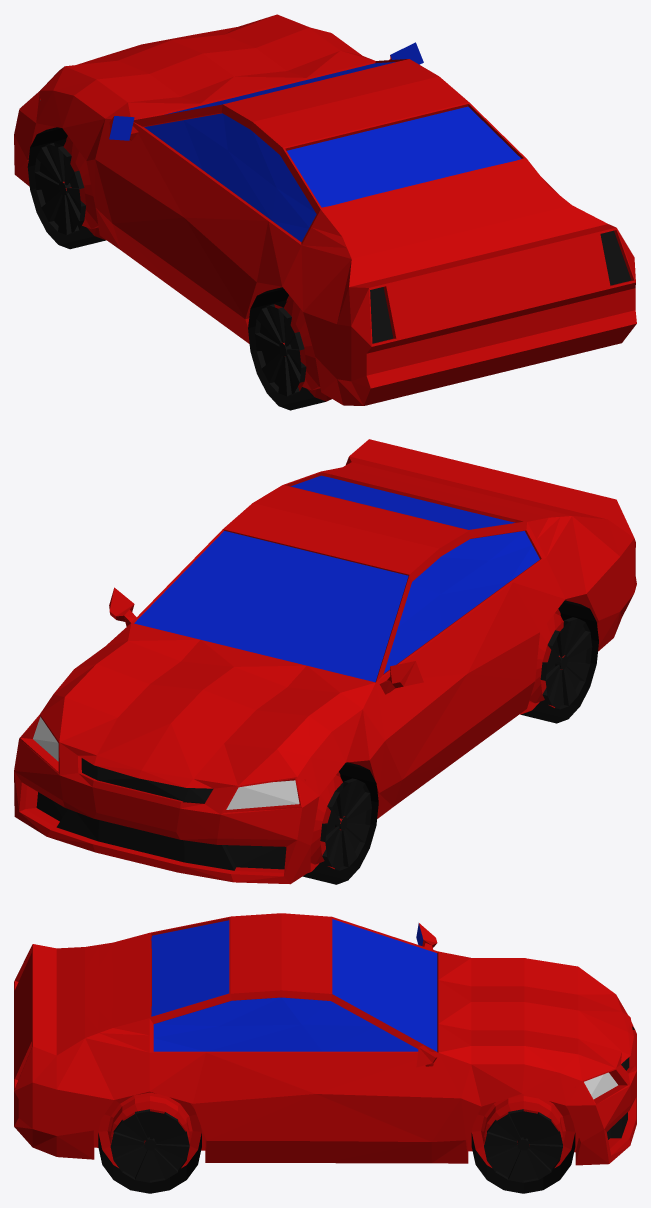
File: car.obj
The picture shows the model from 3 angles, top to bottom: view 1: azimuth 30°, elevation 25°; view 2: azimuth 150°, elevation 25°; view 3: azimuth 270°, elevation 25°; orthographic projection. The views are drawn at different scales.
Parts seen in each view (by area): view 1: Cube; view 2: Cube; view 3: Cube.
Part boxes in pixels (box(x1,y1,x2,y2)): Cube: box(14, 14, 636, 410); Cube: box(14, 439, 636, 884); Cube: box(14, 913, 636, 1193).
Size of the model in its own units: 2.17 by 1.41 by 4.38.
